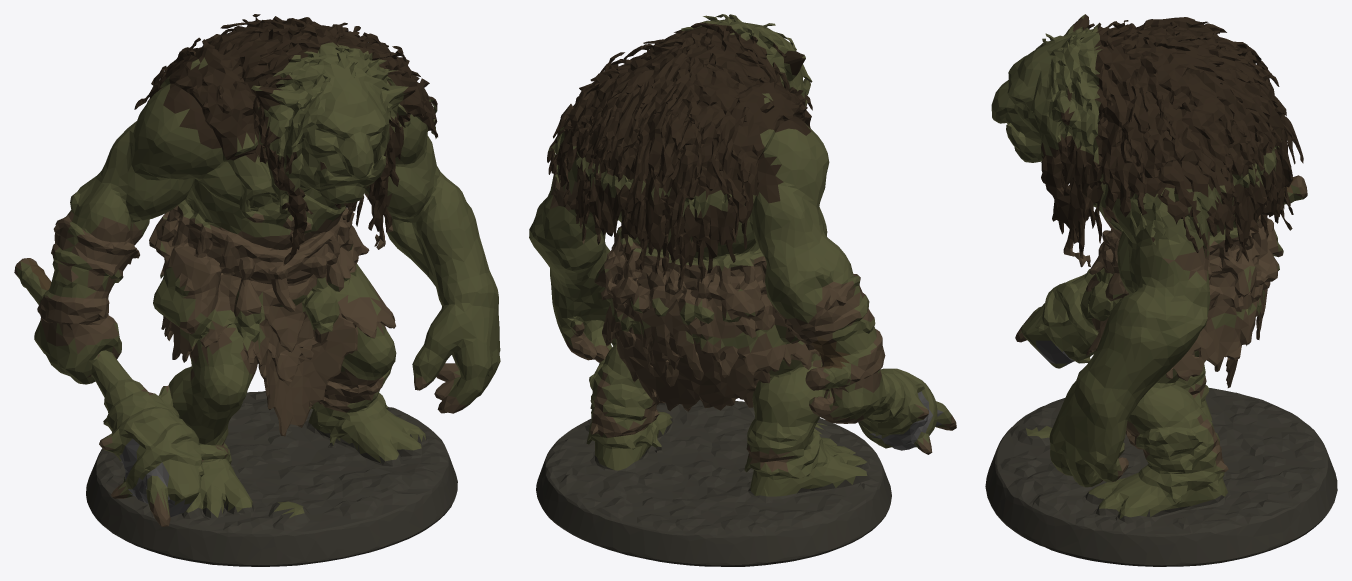
Rendered from troll.glb.
3 renders of one model, left to right at view 1: azimuth 30°, elevation 25°; view 2: azimuth 150°, elevation 25°; view 3: azimuth 270°, elevation 25°, orthographic. The views are drawn at different scales.
Visible parts, largest first — view 1: tmp3mz_j5vp.ply; view 2: tmp3mz_j5vp.ply; view 3: tmp3mz_j5vp.ply.
Boxes of the visible parts, bbox=[...] form: tmp3mz_j5vp.ply: bbox=[14, 14, 500, 566]; tmp3mz_j5vp.ply: bbox=[529, 14, 956, 566]; tmp3mz_j5vp.ply: bbox=[985, 14, 1337, 566].
Size of the model in its own units: 1.74 by 1.96 by 1.33.
